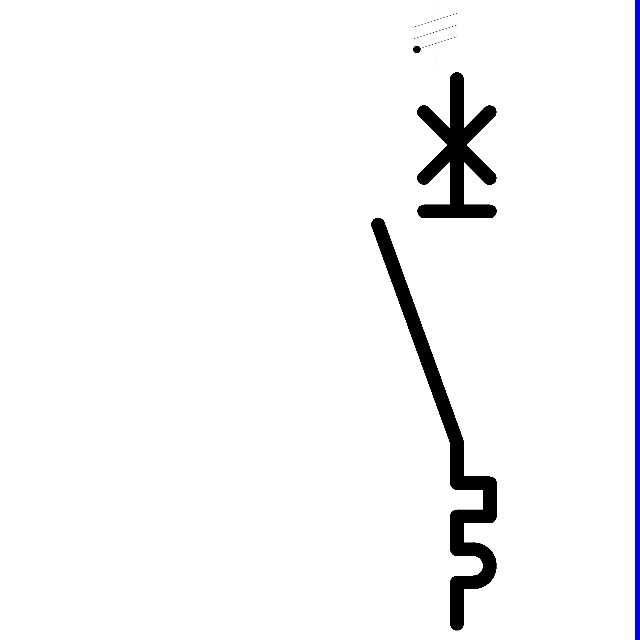interruptor_termomagnetico: (364, 64, 504, 637)
